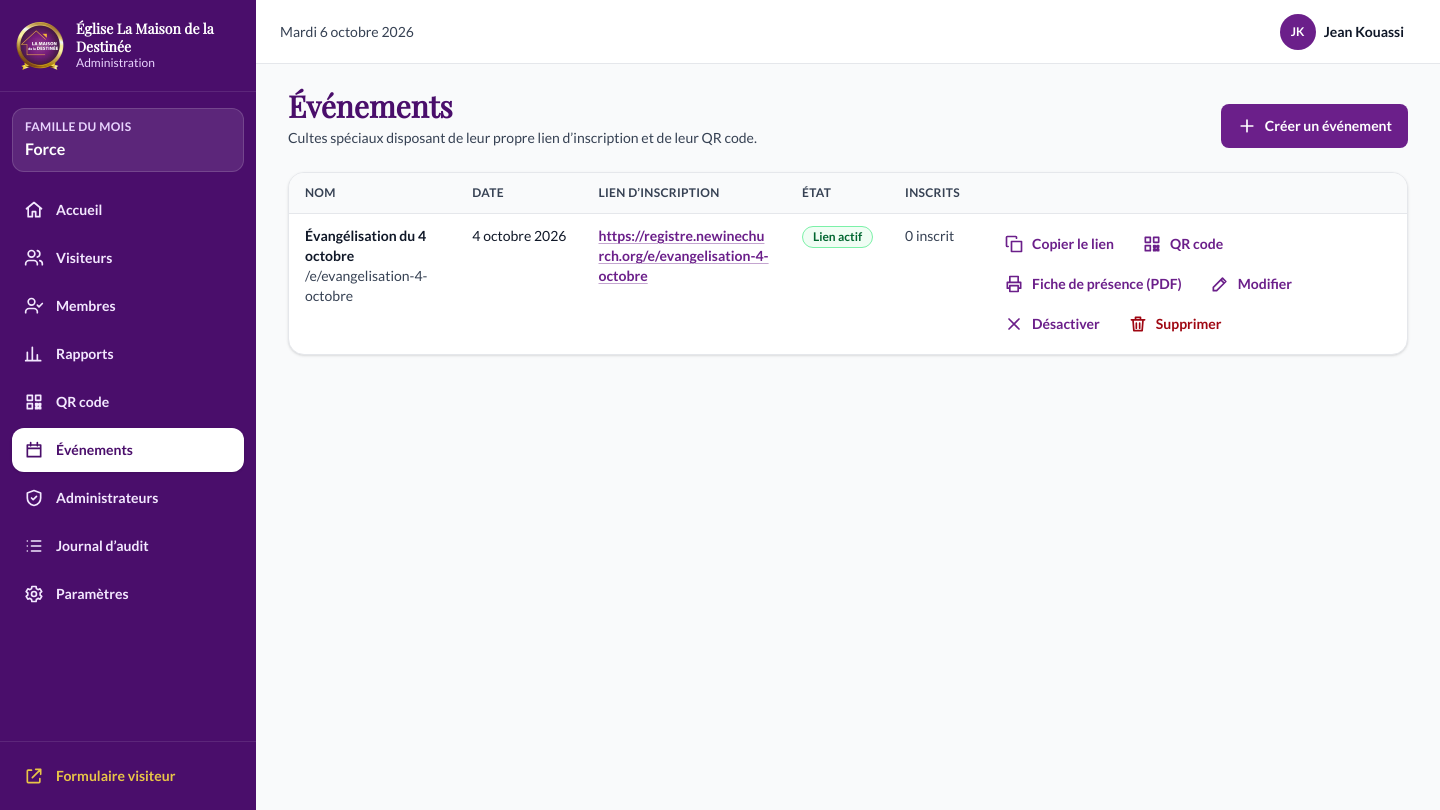
Test: événements — activation et suppression › désactive puis réactive le lien
This screenshot has width=1440, height=810.
What coordinates should you click on to do the following:
click the button "Désactiver"
I would click on:
 (1052, 324)
Its box is top-left (992, 306), bottom-right (1112, 342).
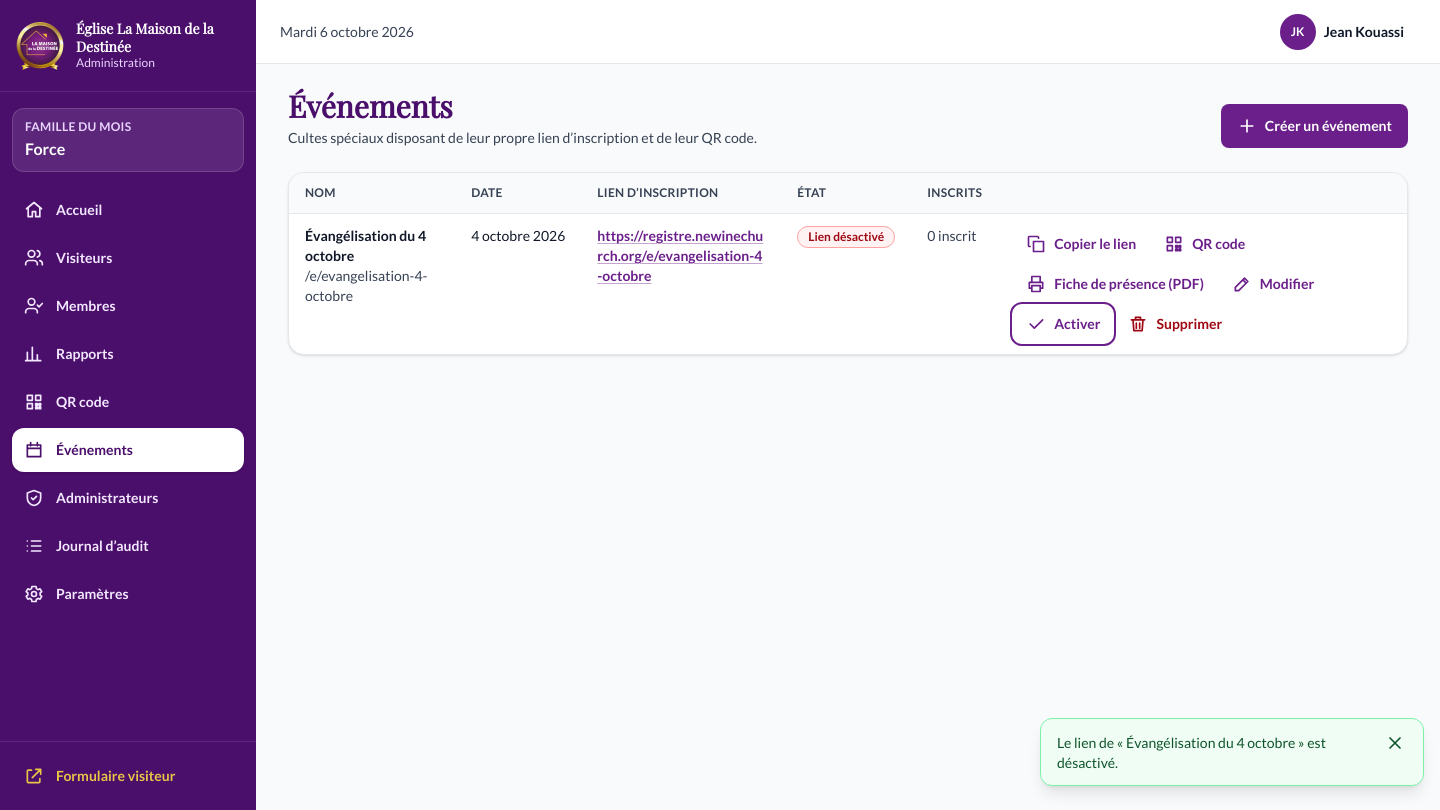
Check: the text "Lien désactivé" is shown, box top-left (797, 226), bottom-right (895, 248)
What coordinates should you click on to do the following:
click the button "Activer"
I would click on:
 (1063, 324)
Its box is top-left (1014, 306), bottom-right (1112, 342).
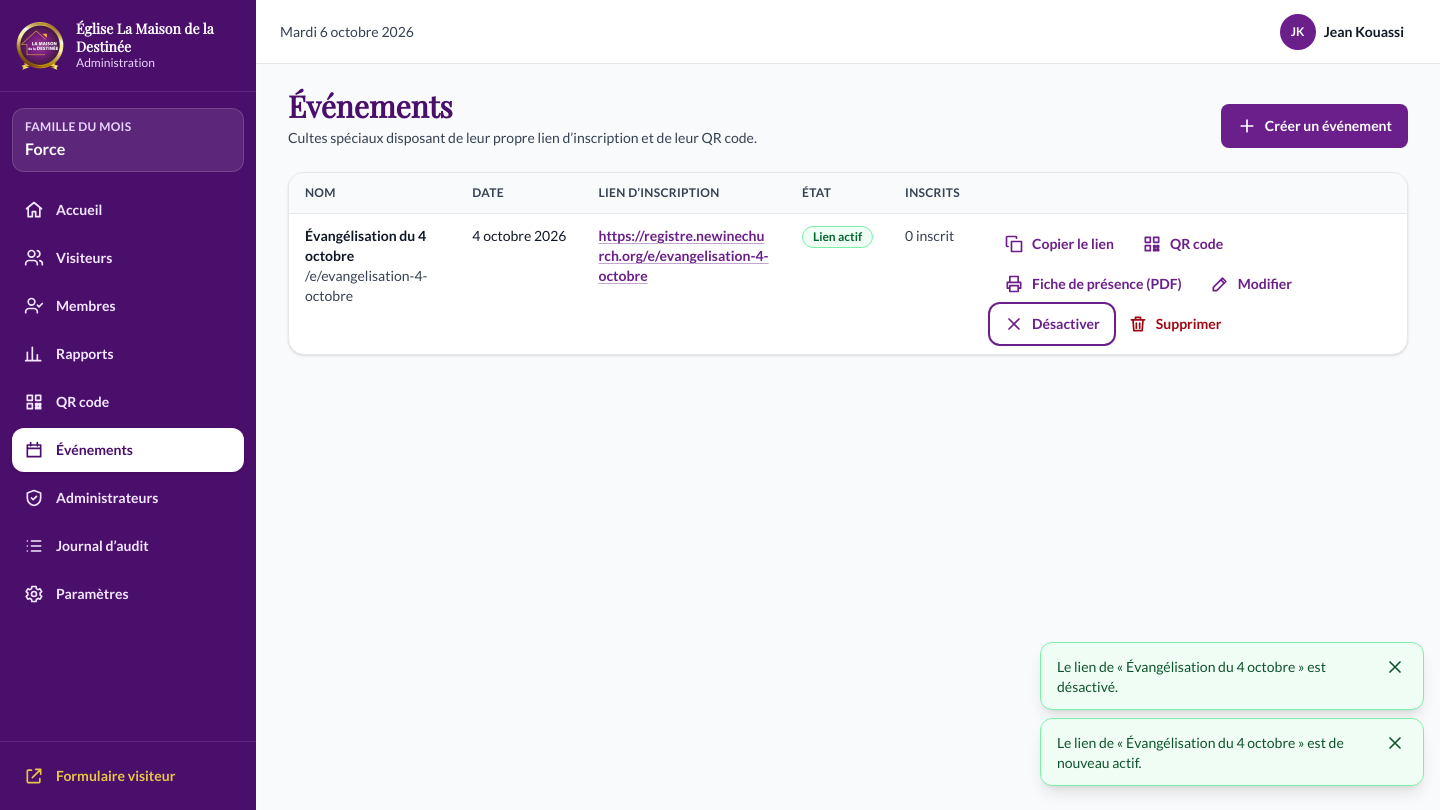
Check: the text "Lien actif" is shown, box top-left (802, 226), bottom-right (873, 248)
